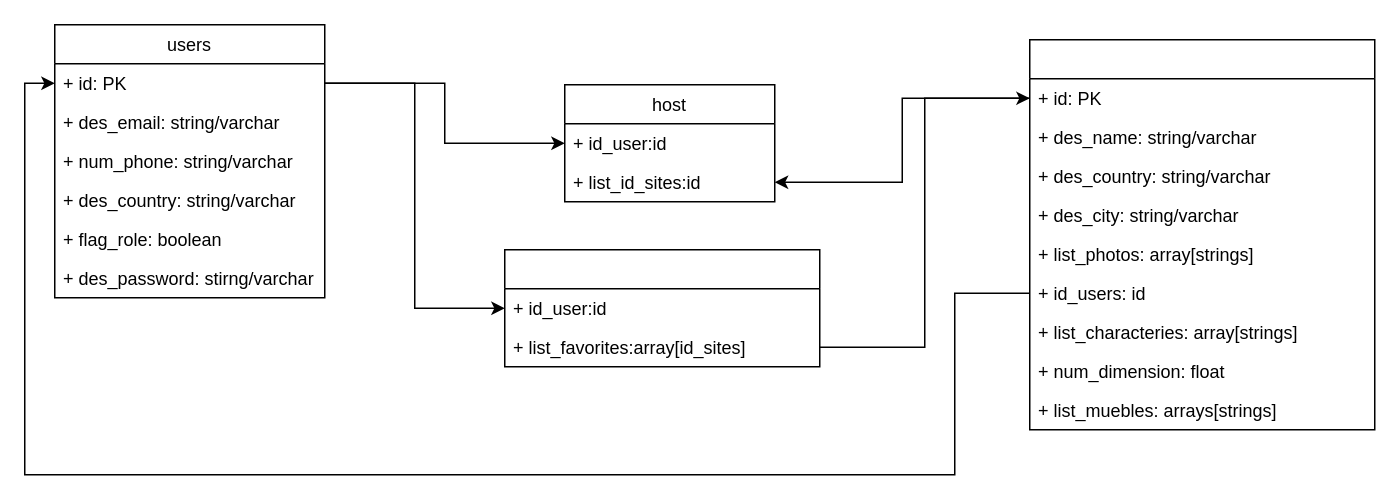
Some shapes in this 1400 by 500 pixel diagram are drawn without their labels. Here are the shapes that lost their labels. From the top down, the box of each, then its label:
(1028, 38, 1375, 430): sites
(503, 248, 820, 367): client
